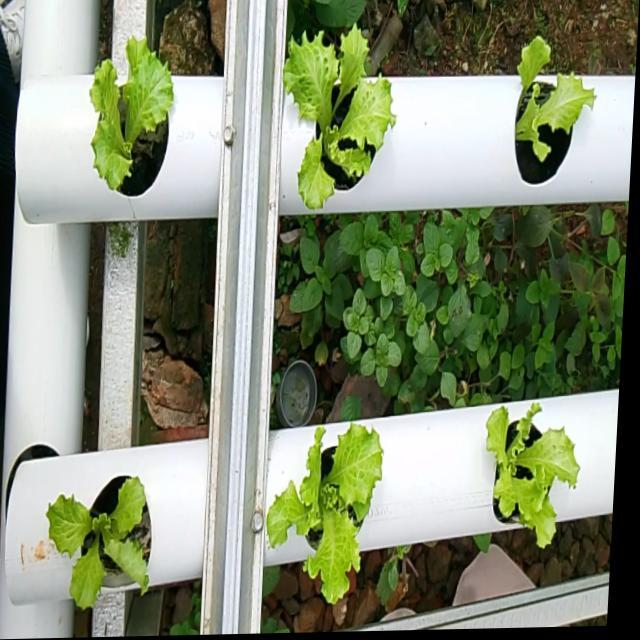Baby: (283, 19, 395, 206), (266, 419, 382, 599), (46, 469, 152, 604), (484, 401, 577, 546), (91, 33, 174, 192), (514, 37, 594, 185)
